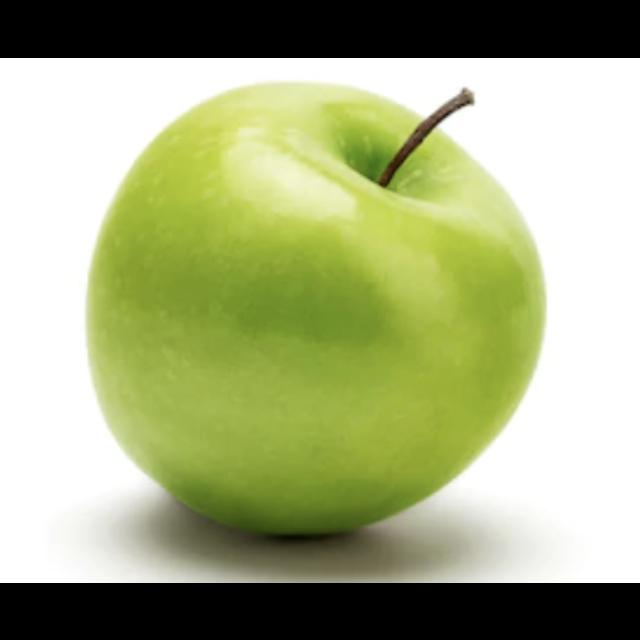Apel Segar: (88, 80, 544, 540)
